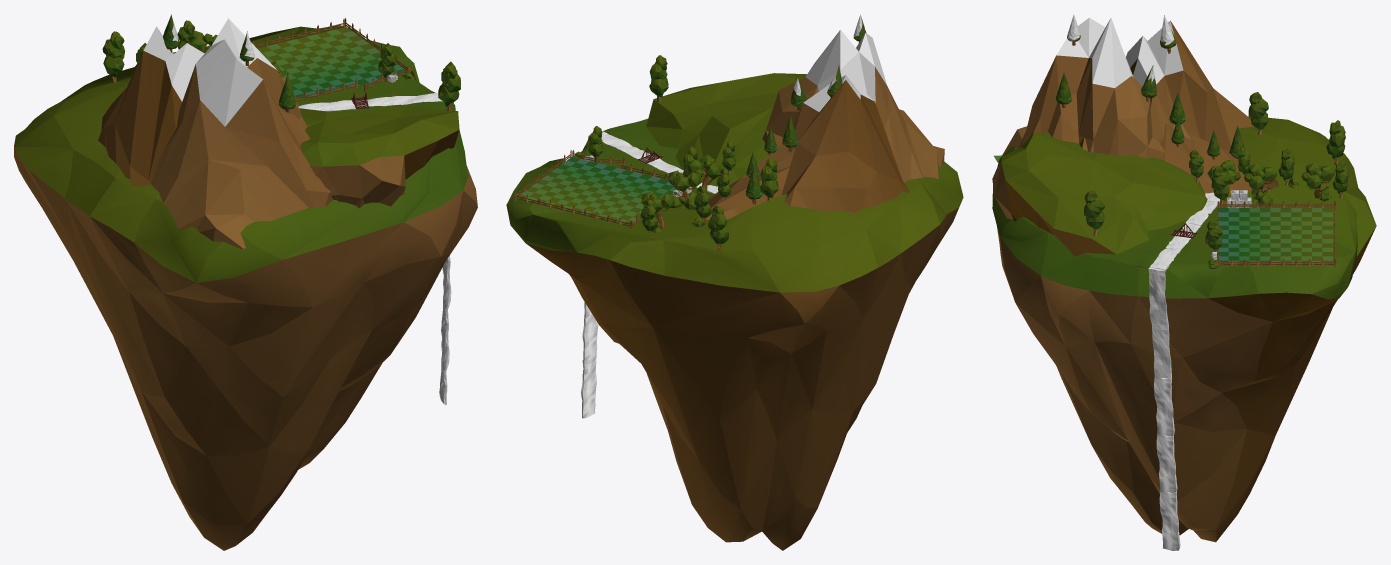
3 views of the same model, side by side, from view 1: azimuth 30°, elevation 25°; view 2: azimuth 150°, elevation 25°; view 3: azimuth 270°, elevation 25° (orthographic). The views are drawn at different scales.
Visible parts, largest first — view 1: rock_1, 4seasons_mountain1, 4seasons_mountain006, 4seasons_mountain2, plane_map, Object001, leaves009, leaves001; view 2: rock_1, 4seasons_mountain2, 4seasons_mountain006, 4seasons_mountain1, plane_map, Object001, 4seasons_mountain003, Box011, Box010, leaves001, leaves009, 4seasons_tree_oak (+2 smaller); view 3: rock_1, 4seasons_mountain006, 4seasons_mountain1, 4seasons_mountain2, plane_map, Object001, 4seasons_mountain003, Box009, Box010, Box011, Box006, Box008 (+6 smaller).
Part boxes in pixels (x1,y1,x2,y2): rock_1: [14, 25, 477, 550]; 4seasons_mountain1: [151, 18, 333, 254]; 4seasons_mountain006: [299, 106, 459, 208]; 4seasons_mountain2: [98, 26, 204, 186]; plane_map: [257, 27, 407, 99]; Object001: [296, 75, 455, 112]; leaves009: [102, 31, 124, 82]; leaves001: [438, 61, 460, 111]; rock_1: [506, 128, 963, 550]; 4seasons_mountain2: [776, 75, 909, 213]; 4seasons_mountain006: [646, 73, 806, 186]; 4seasons_mountain1: [762, 30, 944, 182]; plane_map: [516, 157, 674, 225]; Object001: [580, 118, 713, 194]; 4seasons_mountain003: [705, 144, 789, 219]; Box011: [581, 355, 596, 418]; Box010: [582, 302, 598, 360]; leaves001: [649, 55, 668, 101]; leaves009: [708, 206, 728, 250]; 4seasons_tree_oak: [687, 154, 720, 188]; rock_1: [992, 116, 1376, 542]; 4seasons_mountain006: [992, 132, 1207, 267]; 4seasons_mountain1: [994, 17, 1165, 163]; 4seasons_mountain2: [1126, 20, 1253, 152]; plane_map: [1218, 208, 1332, 265]; Object001: [1085, 208, 1230, 297]; 4seasons_mountain003: [1079, 123, 1278, 194]; Box009: [1154, 376, 1174, 435]; Box010: [1156, 434, 1177, 492]; Box011: [1159, 492, 1180, 550]; Box006: [1148, 268, 1168, 328]; Box008: [1152, 323, 1171, 383].
Size of the model in its own units: 3939 by 5436 by 3695.
